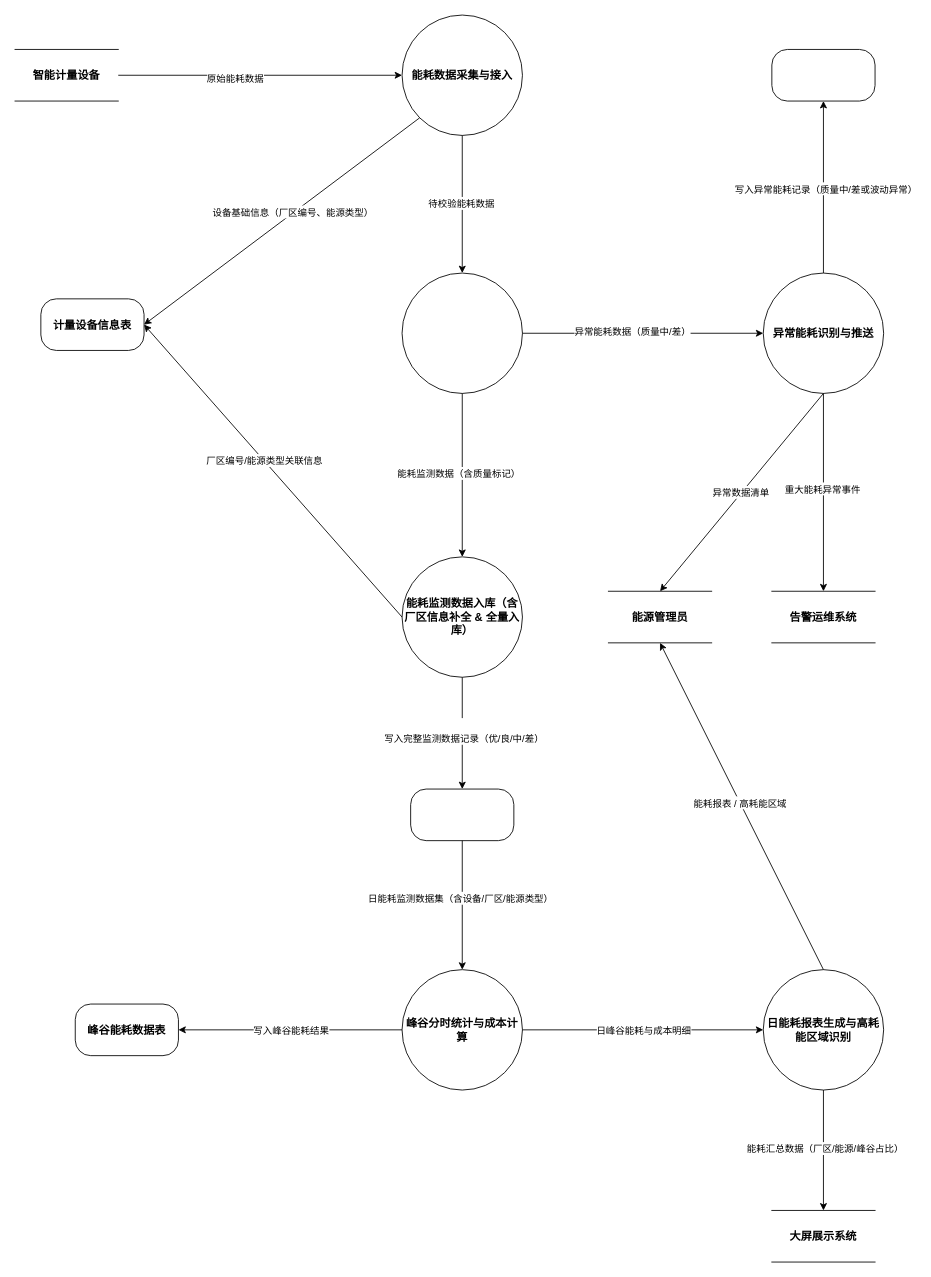
This 931x1277 diagram has some shape labels left out. The box of each missing label's shape, as (x1, y1, x2, y2) in pixels:
异常能耗记录表: (771, 49, 875, 101)
数据波动性校验与标记: (401, 272, 522, 393)
能耗监测数据表: (410, 788, 514, 841)
